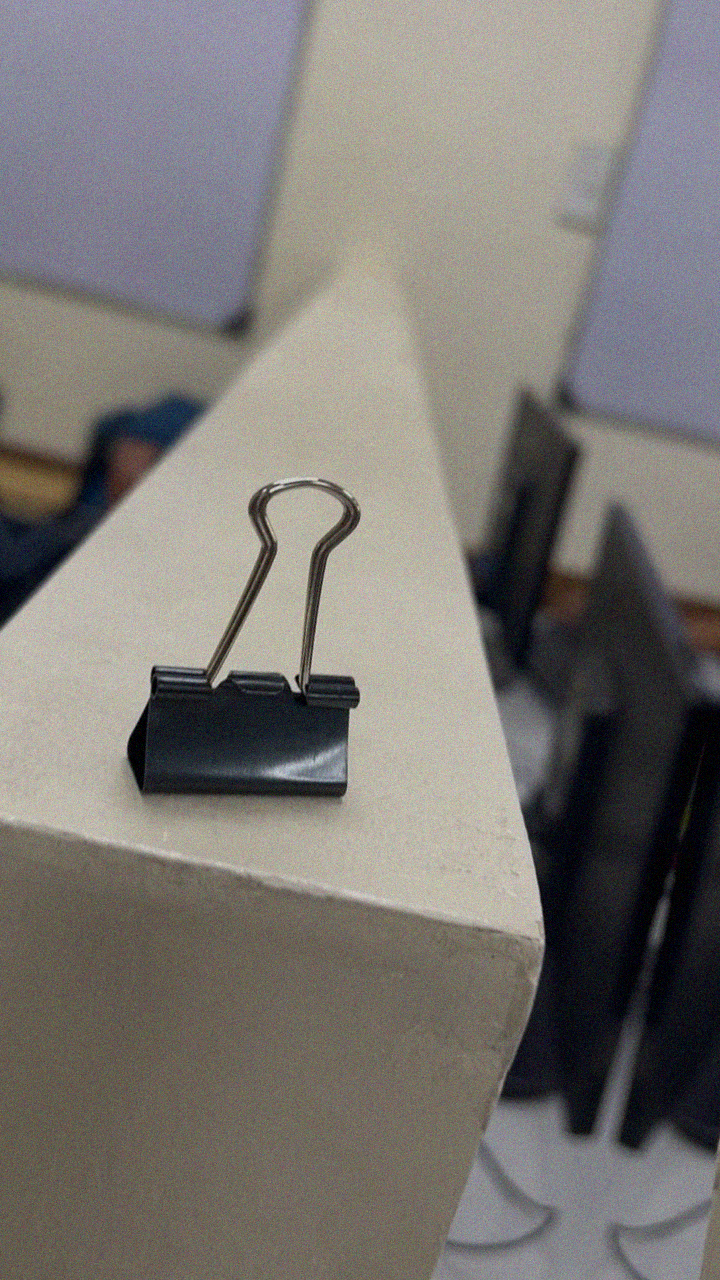kep_giay: (110, 442, 423, 839)
